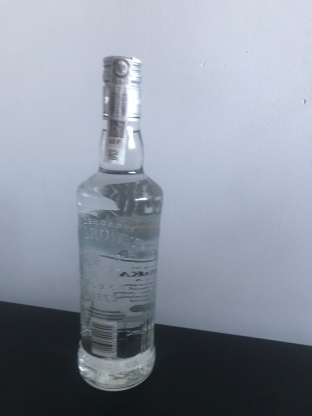nakretka: (99, 50, 144, 126)
